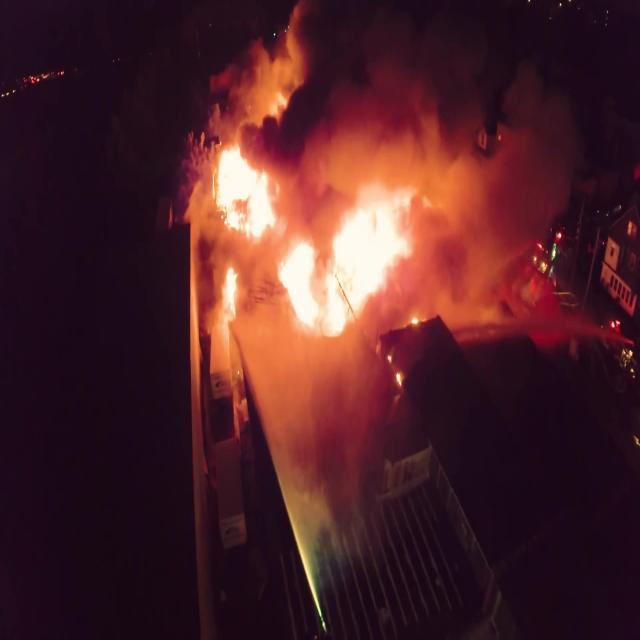Fire: (218, 152, 410, 330)
Smoke: (174, 0, 576, 471)
